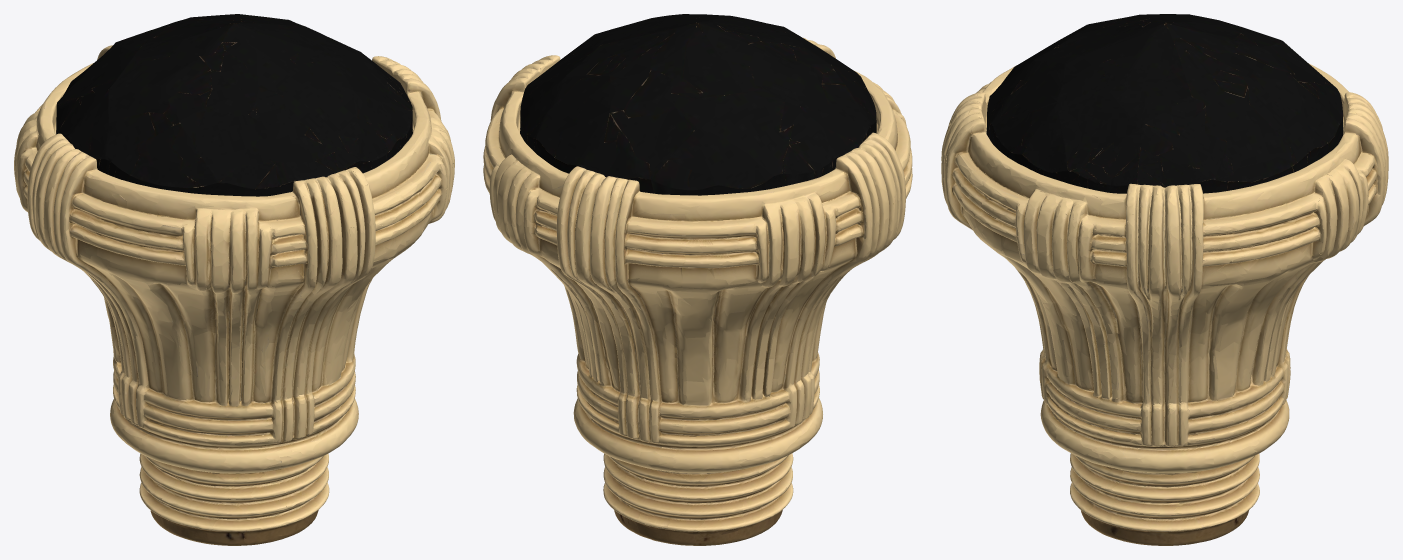
File: cap.glb
3 views of the same model, side by side, from view 1: azimuth 30°, elevation 25°; view 2: azimuth 150°, elevation 25°; view 3: azimuth 270°, elevation 25° (orthographic).
Parts seen in each view (by area): view 1: Mesh_0; view 2: Mesh_0; view 3: Mesh_0.
Boxes of the visible parts, x1,y1,x2,y2 form: Mesh_0: [14, 14, 454, 545]; Mesh_0: [483, 14, 912, 545]; Mesh_0: [941, 14, 1388, 545].
Size of the model in its own units: 1.57 by 1.9 by 1.57.
1 material, 1 textured.
